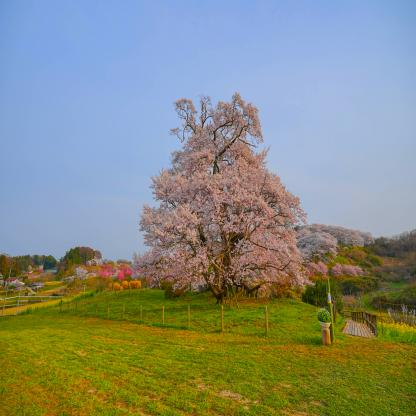EdohiganSakura: (132, 91, 314, 312)
